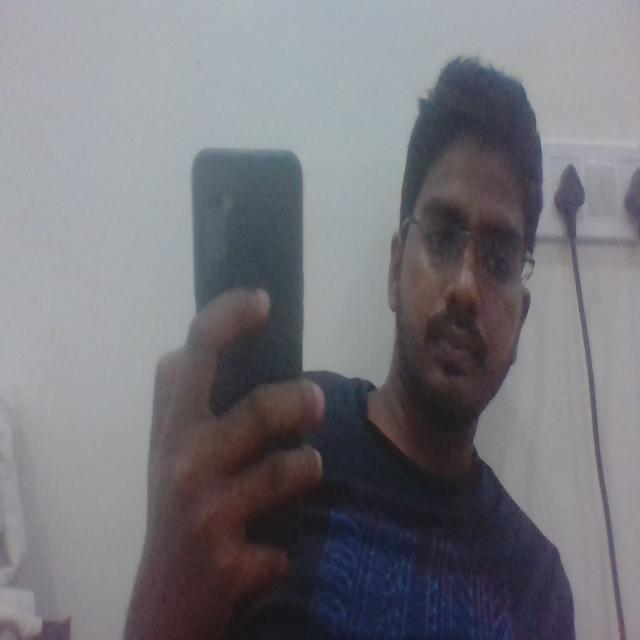Phone: (192, 144, 306, 404)
